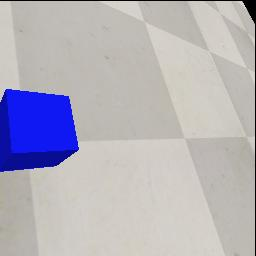box: (0, 89, 80, 173)
